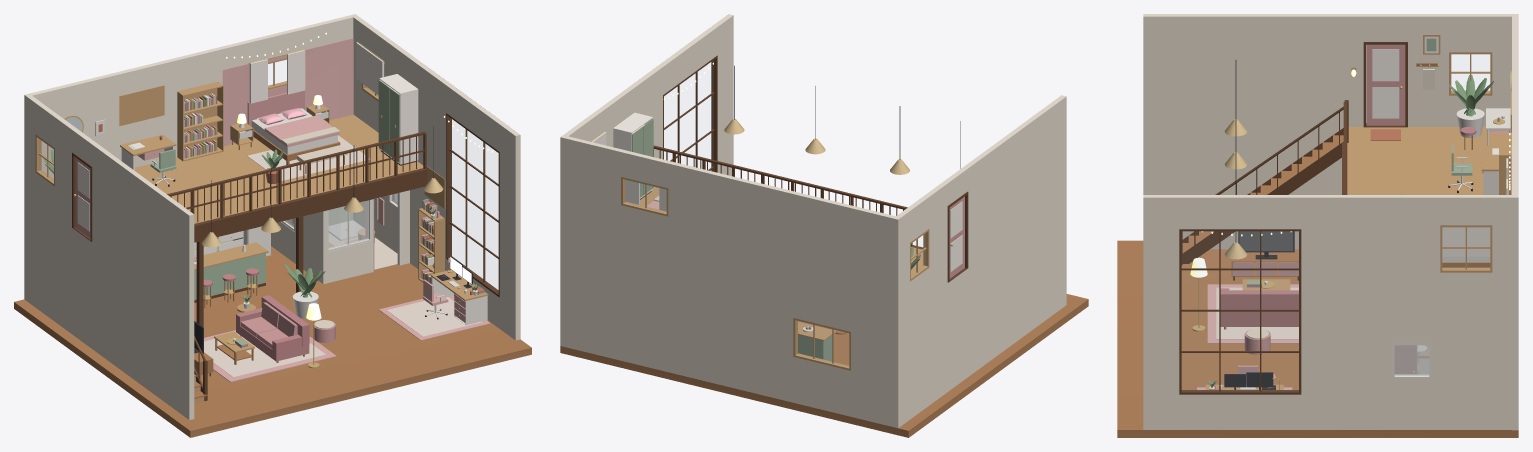
The model's file is map-vy.glb.
3 views of the same model, side by side, from view 1: azimuth 30°, elevation 25°; view 2: azimuth 150°, elevation 25°; view 3: azimuth 270°, elevation 25° (orthographic). The views are drawn at different scales.
Visible parts, largest first — view 1: Walls, Floor_Slab, Mezzanine, Bath_Partition, Bed_Accent_Panel, Railing_Mezz, Bed, Mezz_Bookshelf, Sofa, Win_DeskBig, Breakfast_Bar, Curtains (+21 smaller); view 2: Walls, Floor_Slab, Railing_Mezz, Win_DeskBig, Door_Entrance_Leaf, Breakfast_Bar, Wardrobe, Win_Kitchen, Curtains, Door_Entrance, Win_Bedroom, Win_Nook; view 3: Walls, Floor_Slab, Mezzanine, Stair, Win_DeskBig, Door_Entrance_Leaf, Sofa, Living, Curtains, Win_Bath, Plant_Nook, TV_Unit.001 (+16 smaller).
Boxes of the visible parts, x1,y1,x2,y2 form: Walls: (24,14,520,419); Floor_Slab: (14,246,531,437); Mezzanine: (134,114,427,327); Bath_Partition: (271,190,409,284); Bed_Accent_Panel: (222,38,353,145); Railing_Mezz: (167,131,426,222); Bed: (247,90,340,164); Mezz_Bookshelf: (177,81,223,161); Sofa: (236,295,309,362); Win_DeskBig: (446,113,499,297); Breakfast_Bar: (194,242,268,302); Curtains: (248,41,384,103); Walls: (560,14,1066,428); Floor_Slab: (560,294,1088,437); Railing_Mezz: (653,145,912,246); Win_DeskBig: (663,55,717,172); Door_Entrance_Leaf: (949,196,964,278); Breakfast_Bar: (798,321,836,361); Wardrobe: (613,112,653,199); Win_Kitchen: (793,318,850,370); Curtains: (591,131,666,211); Door_Entrance: (947,191,968,282); Win_Bedroom: (621,177,668,216); Win_Nook: (910,229,929,281); Walls: (1143,14,1518,430); Floor_Slab: (1117,240,1518,437); Mezzanine: (1342,127,1498,194); Stair: (1181,100,1348,265); Win_DeskBig: (1179,229,1301,394); Door_Entrance_Leaf: (1366,44,1405,125); Sofa: (1220,288,1298,329); Living: (1207,284,1298,343); Curtains: (1442,157,1508,256); Win_Bath: (1392,343,1431,378); Plant_Nook: (1449,75,1493,137); TV_Unit.001: (1239,231,1293,251).
Bounding box in the file's own units: 10.31 × 6.1 × 9.23.
